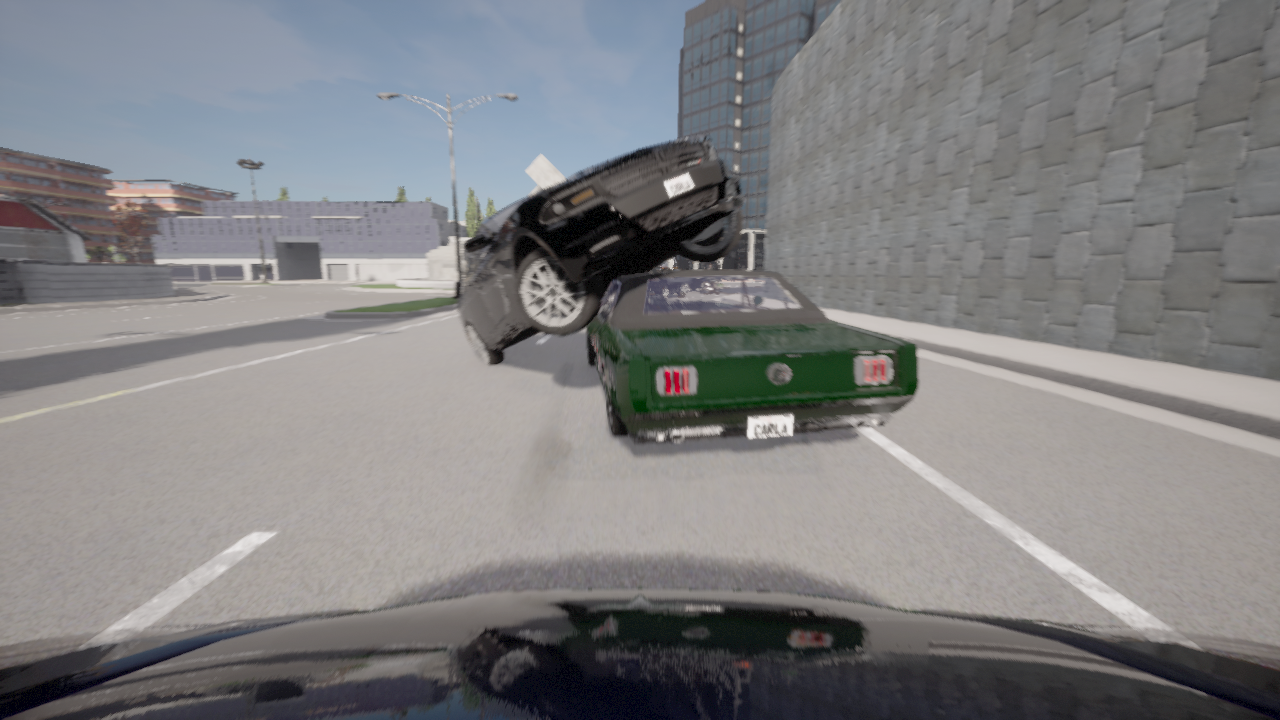cyclist: (0, 588, 1279, 719), (456, 135, 743, 365), (586, 270, 919, 444), (648, 267, 671, 272), (672, 269, 694, 270)
